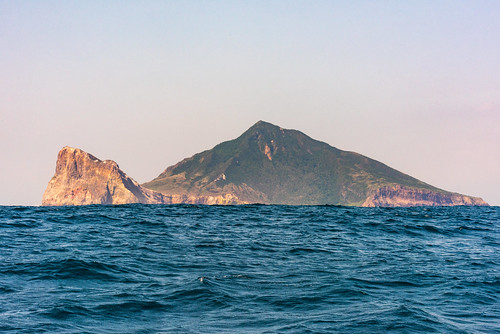turtleIslandLeft: (40, 119, 494, 214)
